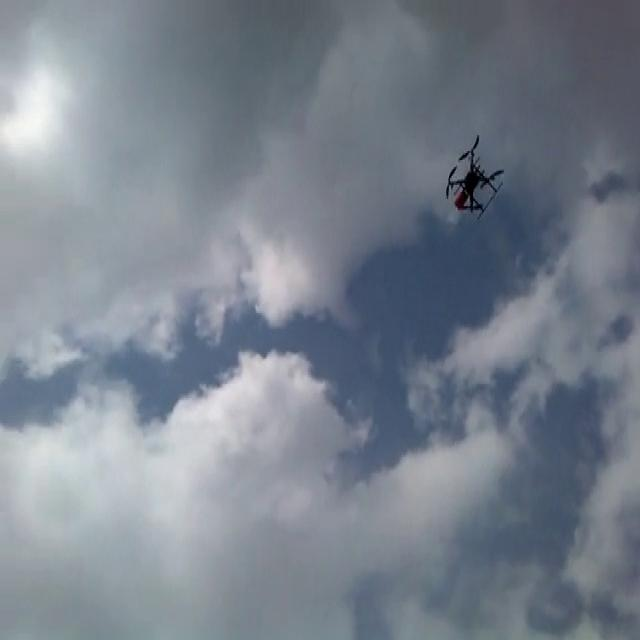drone: (442, 130, 505, 220)
